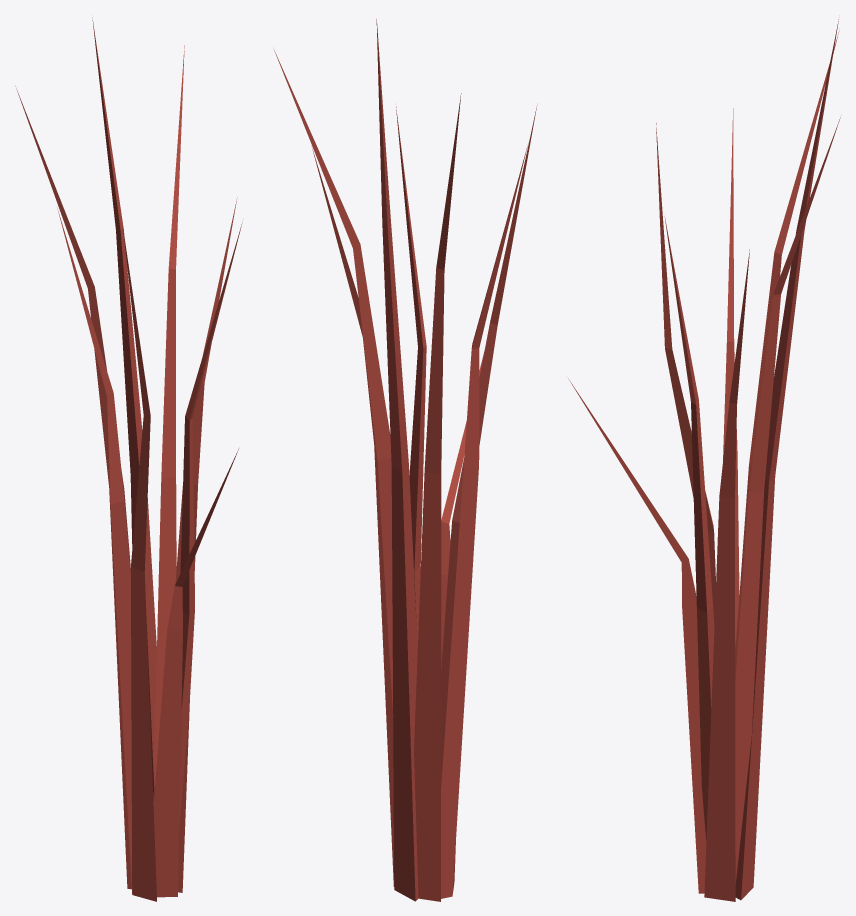
The model's file is Grass_5_Red.fbx.
3 renders of one model, left to right at view 1: azimuth 30°, elevation 25°; view 2: azimuth 150°, elevation 25°; view 3: azimuth 270°, elevation 25°, orthographic. The views are drawn at different scales.
Visible parts, largest first — view 1: Grass_5_Red; view 2: Grass_5_Red; view 3: Grass_5_Red.
Boxes of the visible parts, <box> form: Grass_5_Red: <box>15,17,242,901</box>; Grass_5_Red: <box>274,19,537,901</box>; Grass_5_Red: <box>568,17,840,901</box>.
Bounding box in the file's own units: 23.91 × 101 × 28.97.
